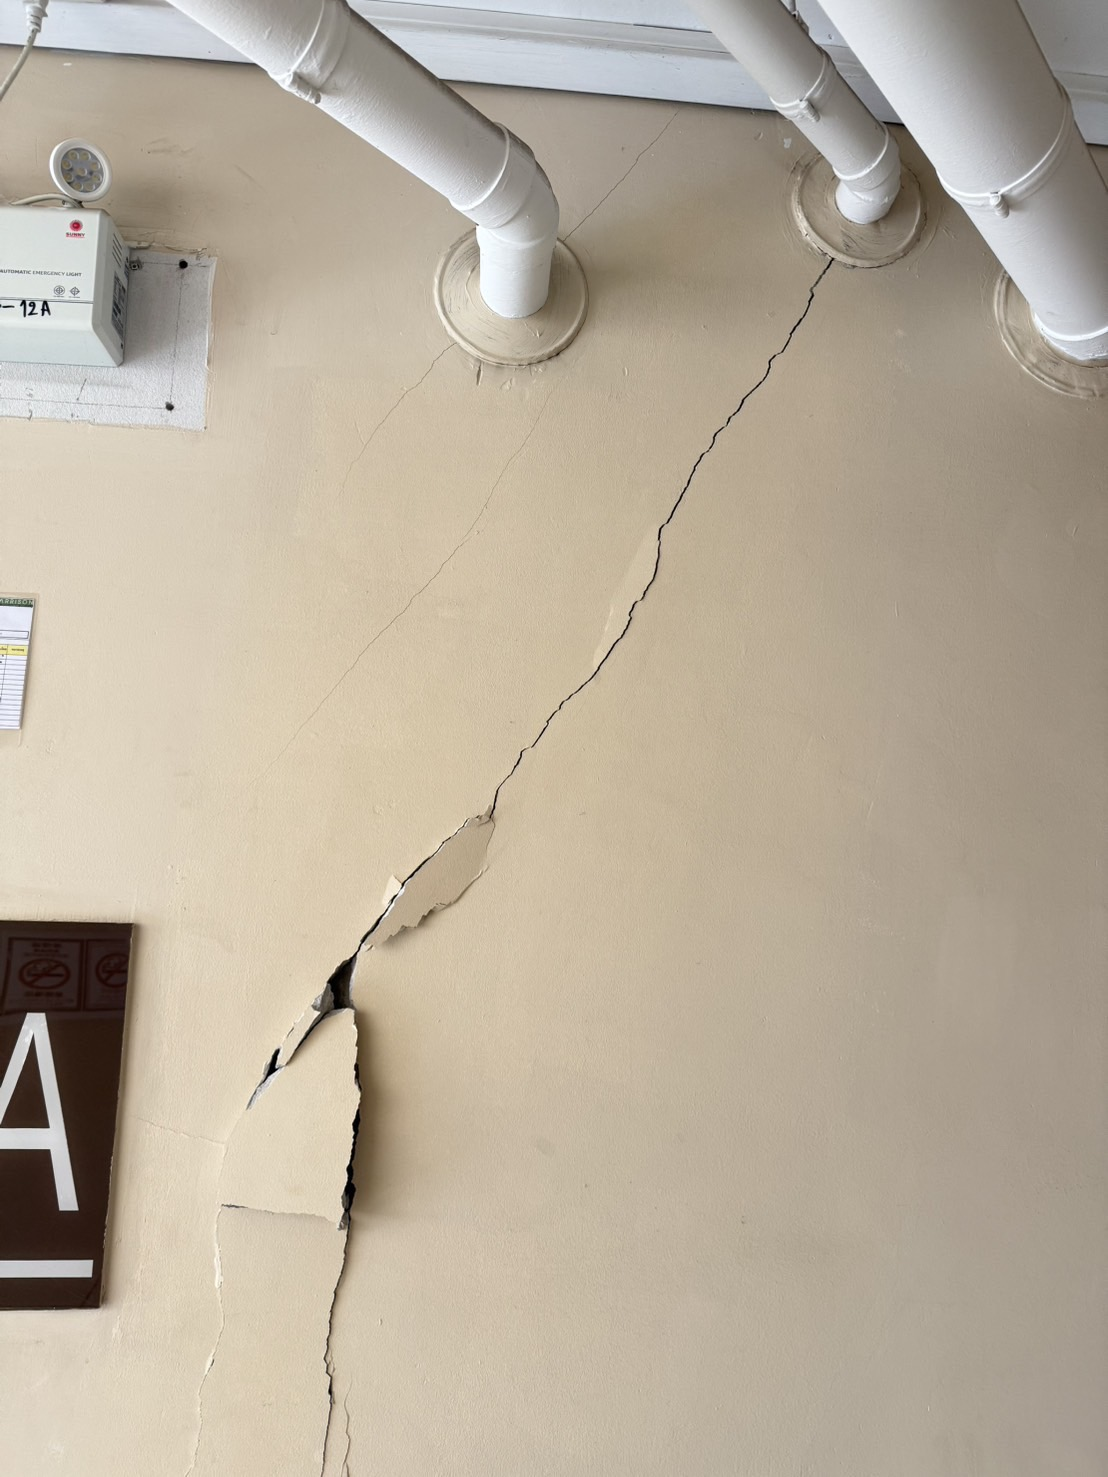Medium: (228, 591, 652, 1454)
